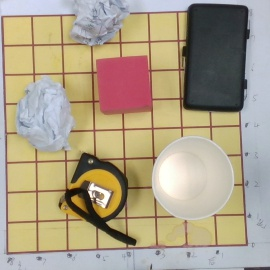cup: (152, 136, 235, 222)
